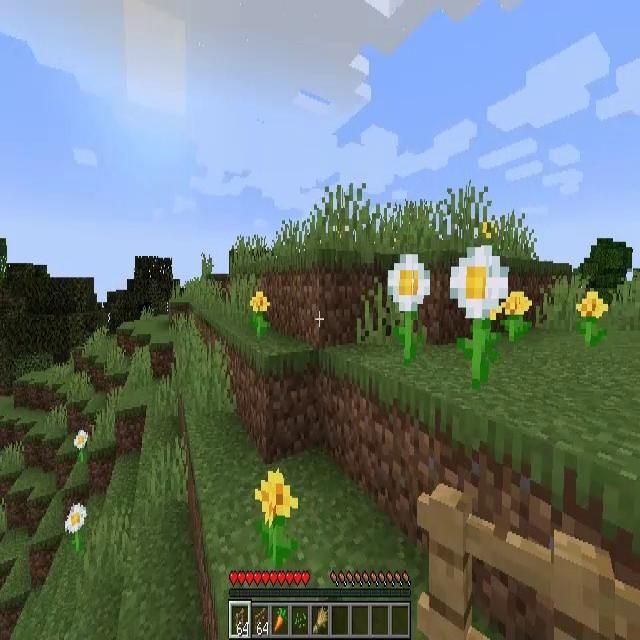flower: (450, 246, 508, 382), (389, 254, 431, 363), (256, 471, 298, 565), (576, 290, 608, 346), (501, 290, 531, 343), (65, 505, 87, 552), (251, 290, 270, 338), (74, 429, 87, 463)
